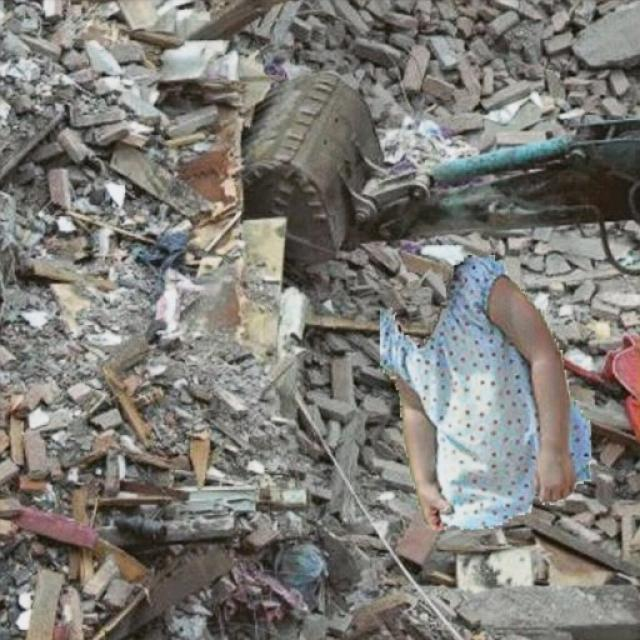Person in Rubble: (380, 255, 590, 529)
